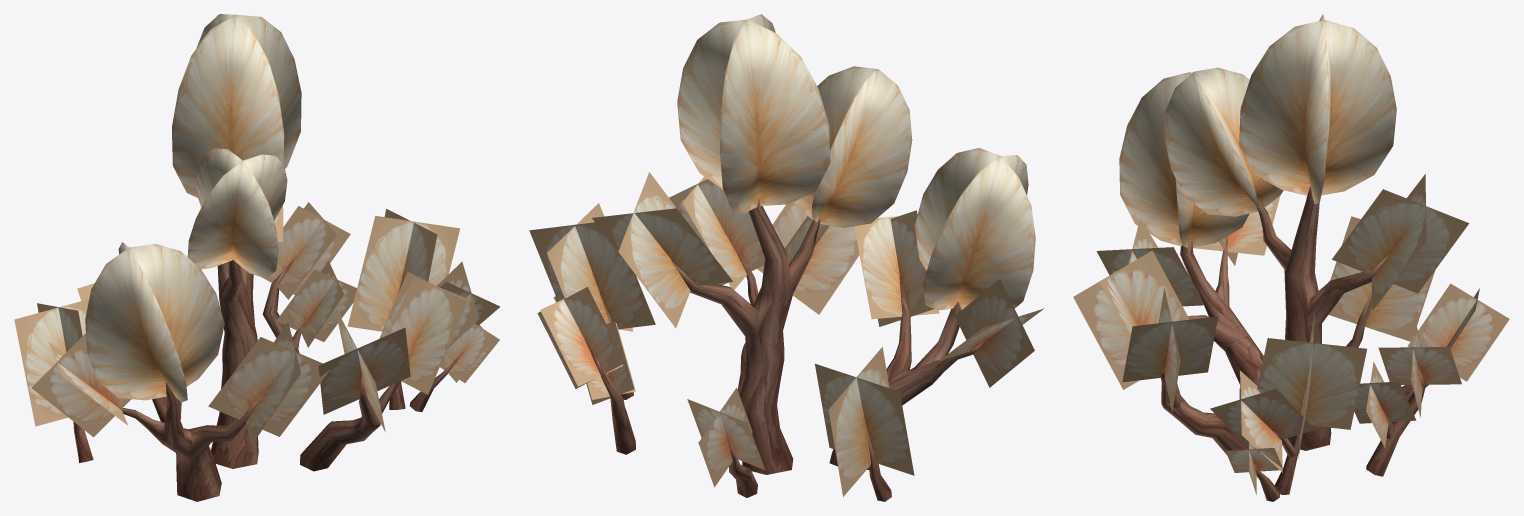
Rendered from Homeworld_Exterior_Xm_Plant_Grass_Desert_08_Lod0.fbx.
3 renders of one model, left to right at view 1: azimuth 30°, elevation 25°; view 2: azimuth 150°, elevation 25°; view 3: azimuth 270°, elevation 25°, orthographic. The views are drawn at different scales.
Parts seen in each view (by area): view 1: Area_Xm_Grass_CWSM_Byh_03_Lod0; view 2: Area_Xm_Grass_CWSM_Byh_03_Lod0; view 3: Area_Xm_Grass_CWSM_Byh_03_Lod0.
Part boxes in pixels (x1,y1,x2,y2): Area_Xm_Grass_CWSM_Byh_03_Lod0: (14,14,500,501); Area_Xm_Grass_CWSM_Byh_03_Lod0: (529,14,1044,501); Area_Xm_Grass_CWSM_Byh_03_Lod0: (1073,14,1509,501).
Size of the model in its own units: 2.3 by 2.05 by 1.9.
1 material, 1 textured.
